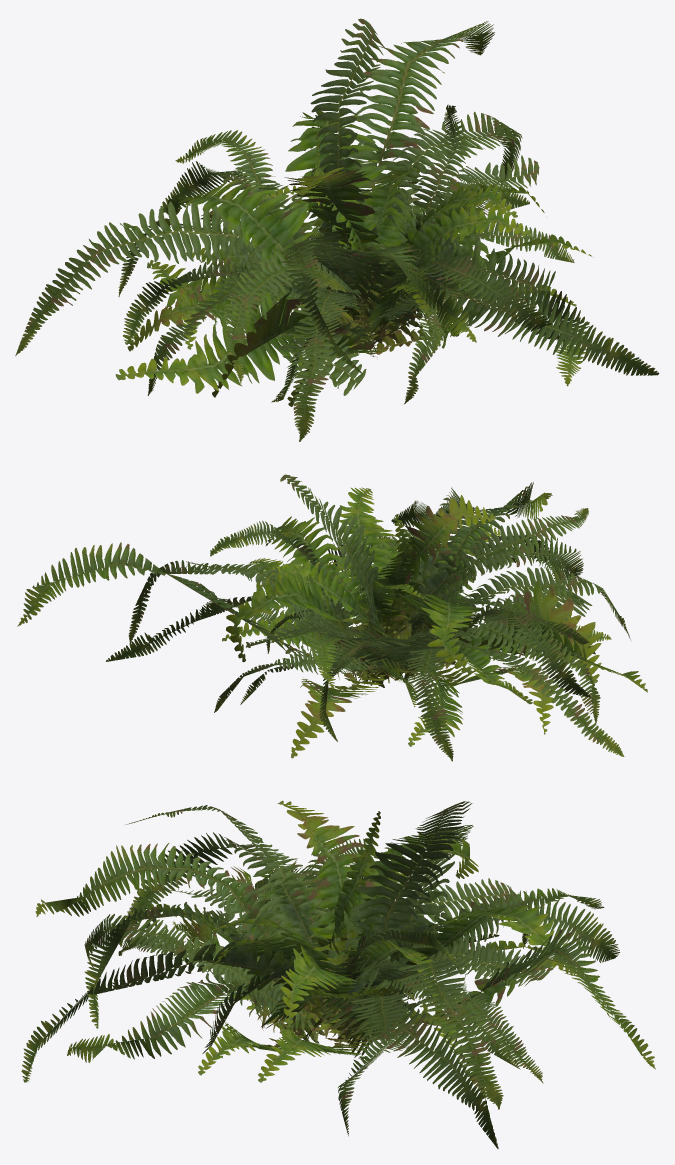
The model's file is fougere.glb.
3 views of the same model, one above another, from view 1: azimuth 30°, elevation 25°; view 2: azimuth 150°, elevation 25°; view 3: azimuth 270°, elevation 25° (orthographic). The views are drawn at different scales.
Visible parts, largest first — view 1: fern_02_b, fern_02_c, fern_02_d, fern_02_a; view 2: fern_02_b, fern_02_c, fern_02_a, fern_02_d; view 3: fern_02_b, fern_02_c, fern_02_a, fern_02_d.
Boxes of the visible parts, <box> form: fern_02_b: <box>15,18,659,441</box>; fern_02_c: <box>115,121,589,406</box>; fern_02_d: <box>147,180,576,402</box>; fern_02_a: <box>181,104,555,353</box>; fern_02_b: <box>17,474,630,758</box>; fern_02_c: <box>106,487,647,761</box>; fern_02_a: <box>210,520,532,712</box>; fern_02_d: <box>266,523,611,746</box>; fern_02_b: <box>21,800,655,1136</box>; fern_02_c: <box>67,805,604,1148</box>; fern_02_a: <box>118,871,553,1083</box>; fern_02_d: <box>131,865,542,1075</box>.
Bounding box in the file's own units: 0.989 × 0.4277 × 0.8938.
1 material, 1 textured.
